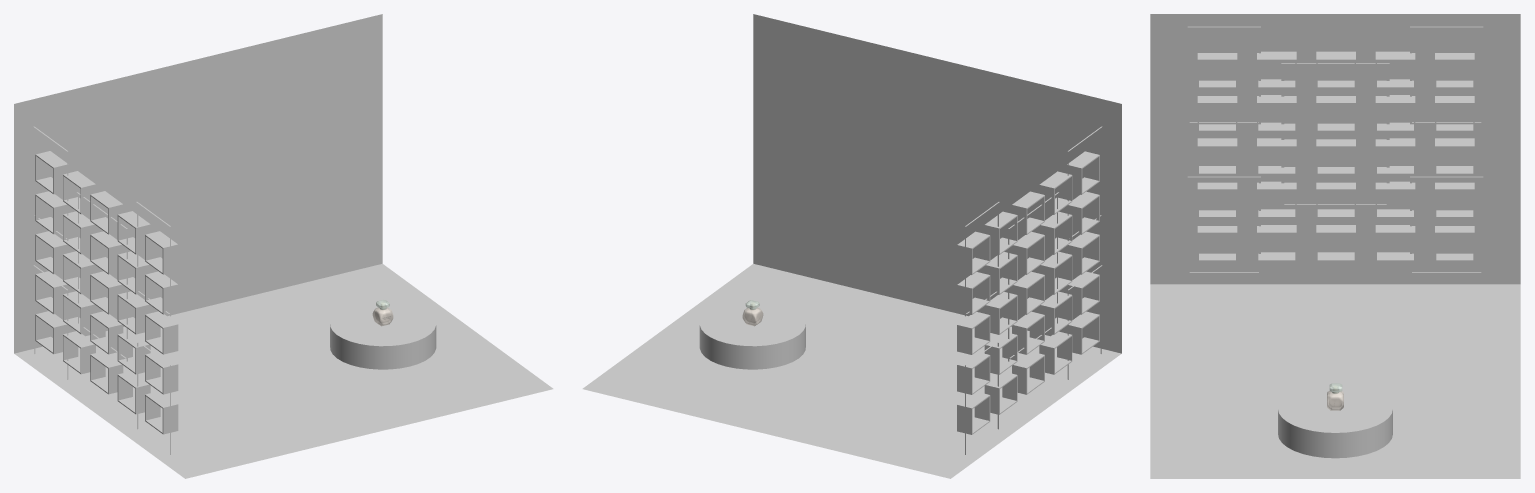
File: dior-2.glb
3 views of the same model, side by side, from view 1: azimuth 30°, elevation 25°; view 2: azimuth 150°, elevation 25°; view 3: azimuth 270°, elevation 25° (orthographic). The views are drawn at different scales.
Parts seen in each view (by area): view 1: walls, floor-ceiling, base, perfume-holder.010, perfume-holder, perfume-holder.020, perfume-holder.015, perfume-holder.005, perfume-holder.004, perfume-holder.002, perfume-holder.022, perfume-holder.023 (+16 smaller); view 2: walls, floor-ceiling, base, perfume-holder.014, perfume-holder.004, perfume-holder.024, perfume-holder.019, perfume-holder.009, perfume-holder, perfume-holder.020, perfume-holder.010, perfume-holder.002 (+16 smaller); view 3: floor-ceiling, walls, picture.001, base, picture.002, picture, picture.004, picture.003, picture-border.001, perfume-holder.003, picture-border.002, perfume-holder.018 (+27 smaller).
Part boxes in pixels (x1,y1,x2,y2): walls: (14,14,382,353); floor-ceiling: (14,264,553,478); base: (330,301,436,369); perfume-holder.010: (145,311,178,354); perfume-holder: (145,231,178,274); perfume-holder.020: (145,391,178,434); perfume-holder.015: (145,351,178,394); perfume-holder.005: (145,271,178,314); perfume-holder.004: (35,151,68,194); perfume-holder.002: (90,191,123,234); perfume-holder.022: (90,351,123,394); perfume-holder.023: (63,331,95,374); walls: (753,14,1121,353); floor-ceiling: (582,264,1121,478); base: (699,301,805,369); perfume-holder.014: (957,312,990,354); perfume-holder.004: (957,231,990,274); perfume-holder.024: (957,391,990,434); perfume-holder.019: (957,352,990,394); perfume-holder.009: (957,272,990,314); perfume-holder: (1066,151,1099,194); perfume-holder.020: (1066,311,1099,354); perfume-holder.010: (1066,231,1099,274); perfume-holder.002: (1012,191,1044,234); floor-ceiling: (1150,284,1520,478); walls: (1150,14,1520,284); picture.001: (1284,66,1386,204); base: (1278,384,1392,458); picture.002: (1412,29,1481,121); picture: (1189,29,1258,121); picture.004: (1412,179,1481,271); picture.003: (1189,179,1258,271); picture-border.001: (1281,63,1389,207); perfume-holder.003: (1375,51,1415,88); picture-border.002: (1410,26,1483,124); perfume-holder.018: (1375,181,1415,218).
Size of the model in its own units: 8 by 5.18 by 6.44.
Materials: 1 (1 with a texture image).
